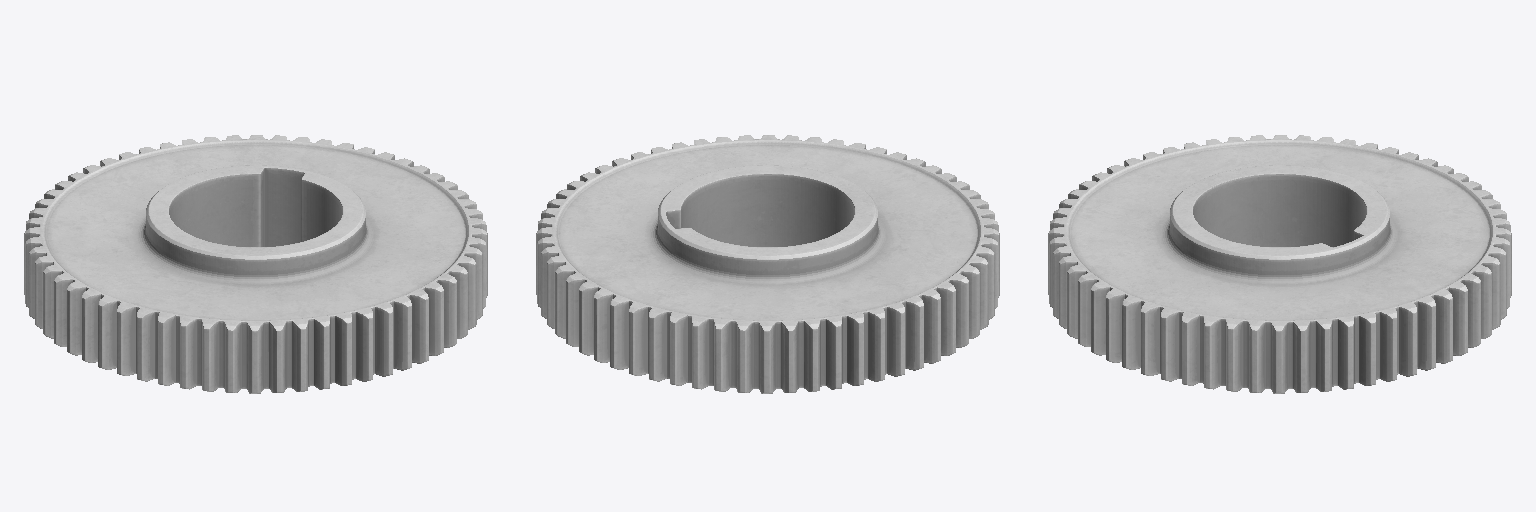
3 renders of one model, left to right at view 1: azimuth 30°, elevation 25°; view 2: azimuth 150°, elevation 25°; view 3: azimuth 270°, elevation 25°, orthographic.
Visible parts, largest first — view 1: Gear2; view 2: Gear2; view 3: Gear2.
Part boxes in pixels (x1,y1,x2,y2): Gear2: (24, 135, 487, 393); Gear2: (536, 135, 999, 393); Gear2: (1048, 135, 1511, 393).
Bounding box in the file's own units: 18.14 × 3.93 × 18.14.
1 materials, 1 textured.